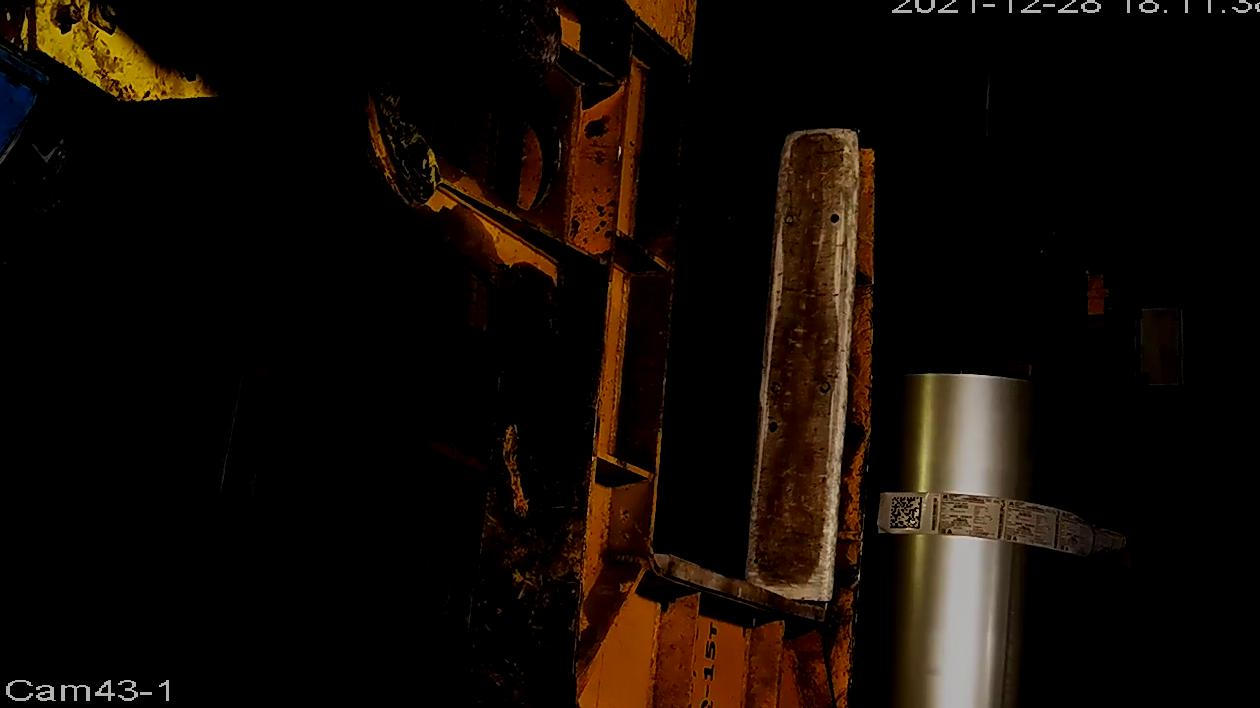data matrix: (888, 494, 926, 533)
